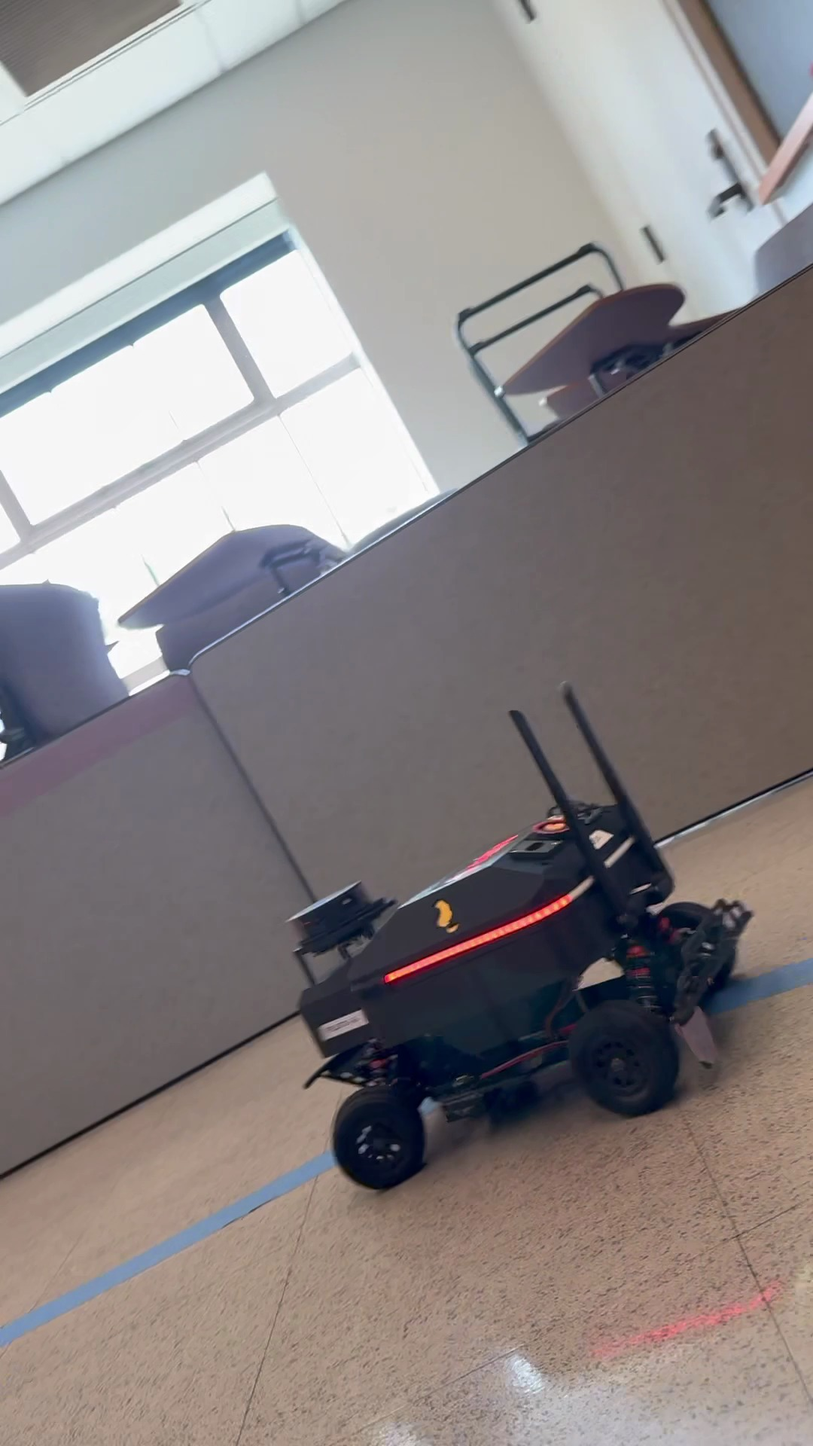racecar: (289, 689, 751, 1188)
